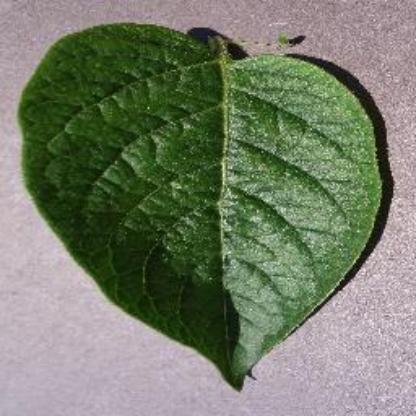Healthy-plant: (10, 12, 388, 392)
